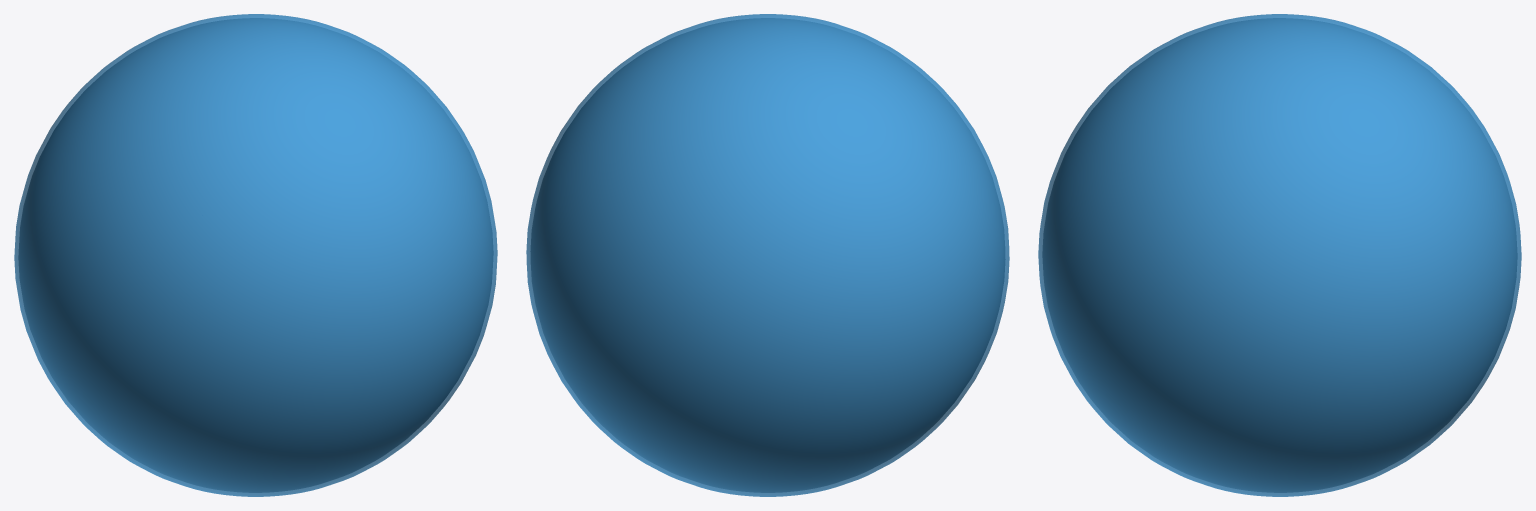
The model's file is earth2.gltf.
3 renders of one model, left to right at view 1: azimuth 30°, elevation 25°; view 2: azimuth 150°, elevation 25°; view 3: azimuth 270°, elevation 25°, orthographic.
Visible parts, largest first — view 1: Sphere.002, Sphere; view 2: Sphere.002, Sphere; view 3: Sphere.002, Sphere.
Boxes of the visible parts, <box> form: Sphere.002: <box>14,14,497,496</box>; Sphere: <box>18,18,493,492</box>; Sphere.002: <box>526,14,1009,496</box>; Sphere: <box>530,18,1005,492</box>; Sphere.002: <box>1038,14,1521,496</box>; Sphere: <box>1042,18,1517,492</box>.
Size of what is drawn, in the model's own units: 2.03 by 2.03 by 2.03.
